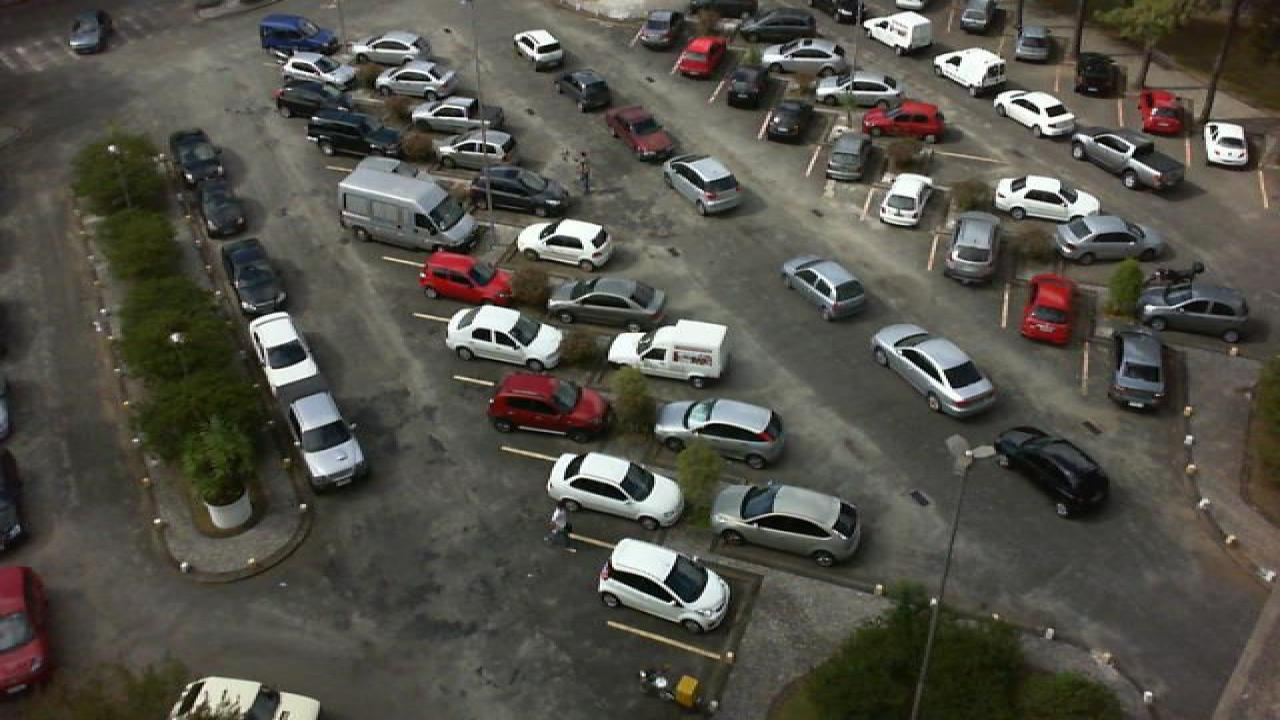Car: (710, 479, 866, 566), (596, 538, 734, 636), (338, 158, 478, 248), (870, 323, 998, 418), (544, 450, 686, 531), (990, 424, 1112, 518), (652, 396, 786, 469), (484, 371, 618, 443), (276, 387, 368, 489), (440, 304, 564, 374), (606, 317, 728, 387), (1138, 282, 1254, 346), (1070, 130, 1184, 195), (168, 676, 324, 720), (0, 562, 50, 698), (546, 276, 668, 330), (248, 312, 322, 398), (986, 173, 1104, 223), (1052, 212, 1164, 264), (782, 256, 870, 320), (516, 216, 616, 272), (418, 250, 514, 307), (1106, 330, 1172, 412), (662, 152, 744, 214), (222, 237, 288, 314), (470, 165, 572, 214), (942, 210, 1004, 286), (1016, 274, 1078, 348), (992, 90, 1078, 141), (606, 104, 678, 160), (306, 106, 386, 153), (932, 47, 1010, 94), (432, 128, 516, 171), (860, 98, 948, 139), (258, 14, 336, 60), (788, 64, 872, 106), (192, 179, 250, 238), (374, 61, 458, 101), (878, 172, 936, 228), (168, 130, 228, 184), (862, 12, 934, 57), (758, 36, 844, 73), (352, 30, 424, 71), (820, 132, 876, 184), (756, 100, 816, 146), (272, 80, 350, 115), (736, 5, 820, 37), (672, 34, 730, 80), (408, 96, 480, 132), (556, 70, 614, 114), (1072, 51, 1124, 100), (1204, 120, 1254, 170), (718, 64, 772, 110), (510, 28, 566, 71), (1138, 88, 1186, 136), (66, 9, 114, 54), (278, 52, 342, 83), (636, 9, 680, 53), (1016, 23, 1060, 64), (958, 0, 1000, 35), (898, 0, 942, 20)
